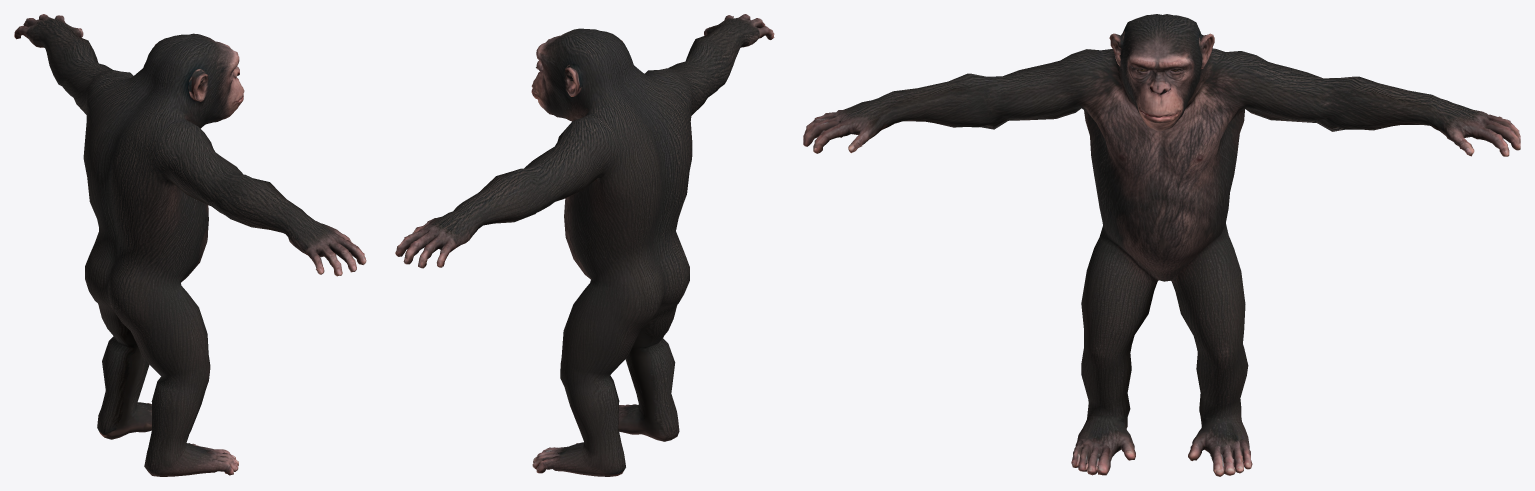
Rendered from chimpanzee_monkey_3d_model_free_game.glb.
3 views of the same model, side by side, from view 1: azimuth 30°, elevation 25°; view 2: azimuth 150°, elevation 25°; view 3: azimuth 270°, elevation 25° (orthographic). The views are drawn at different scales.
Visible parts, largest first — view 1: Model_0; view 2: Model_0; view 3: Model_0.
Part boxes in pixels (x1,y1,x2,y2): Model_0: (14, 14, 366, 476); Model_0: (395, 14, 774, 476); Model_0: (803, 14, 1520, 476).
Bounding box in the file's own units: 0.2485 × 0.6908 × 1.
Materials: 1 (1 with a texture image).
